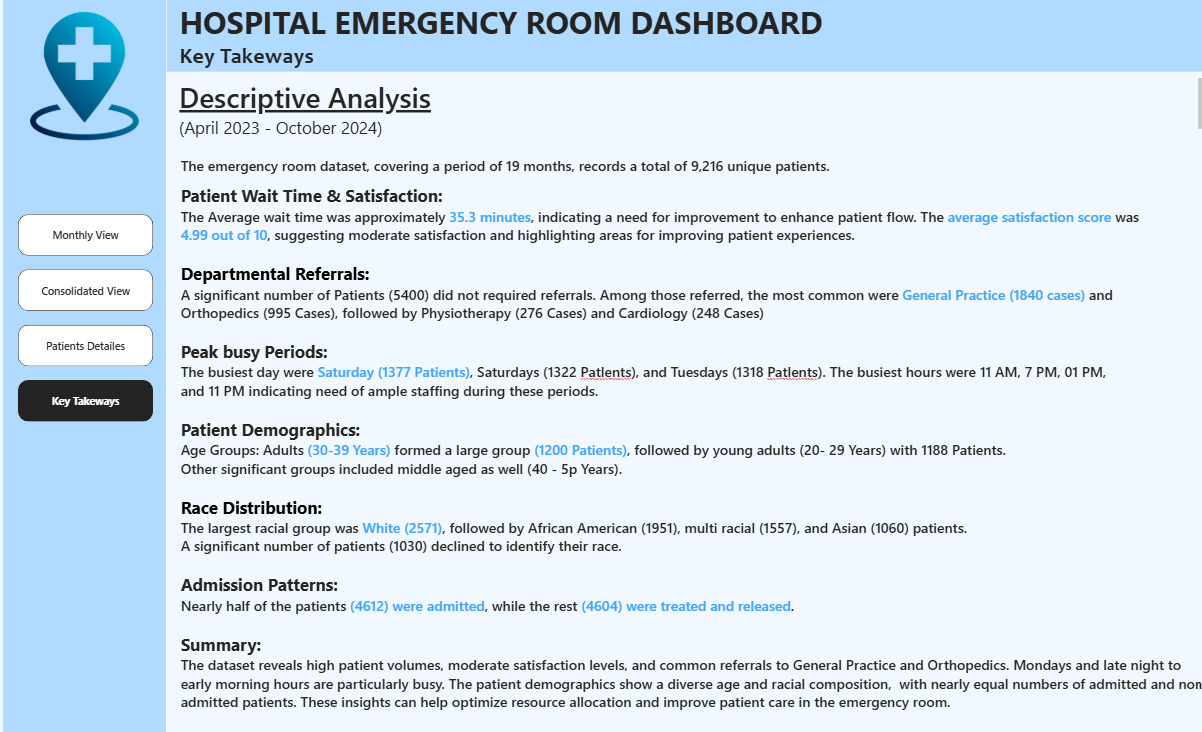

The page's visual inventory and layout, read from the dashboard file:
{"tool":"powerbi","page":{"name":"Key Takeways","canvas":[2300,1400],"ordinal":3},"visuals":[{"type":"shape","box":[9.9,0,310,1400.5],"z":0},{"type":"shape","box":[321,0,1978.3,140.3],"z":1000},{"type":"textbox","box":[340,0,1265,140.3],"z":2000},{"type":"textbox","box":[340,77.5,500,70],"z":3000},{"type":"image","box":[35,25,257.5,245],"z":4000},{"type":"textbox","box":[340,147.5,1957.5,122.5],"z":5000},{"type":"textbox","box":[342.5,295,1957.5,55],"z":6000},{"type":"textbox","box":[342.5,350,1957.5,1050],"z":7000},{"type":"pageNavigator","box":[37.5,412.5,257.5,395],"z":8000}]}

Visuals, with their boxes on the page's 2300x1400 design canvas (x1, y1, x2, y2). These are canvas units, not pixel positions in the 1202x732 screenshot, which may show the page scaled, cropped or inside an application window:
shape: [10,0,320,1400]
shape: [321,0,2299,140]
textbox: [340,0,1605,140]
textbox: [340,78,840,148]
image: [35,25,292,270]
textbox: [340,148,2298,270]
textbox: [342,295,2300,350]
textbox: [342,350,2300,1400]
pageNavigator: [38,412,295,808]
